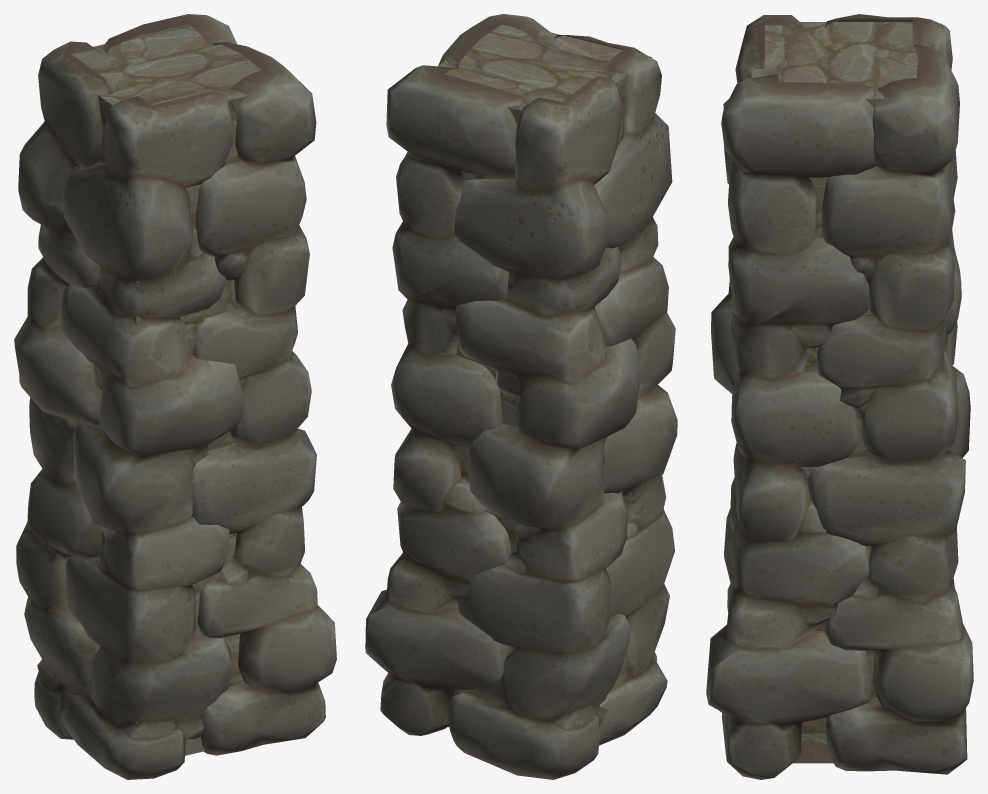
The model's file is MSH_fwOF_Ruins_Pillar.fbx.
3 renders of one model, left to right at view 1: azimuth 30°, elevation 25°; view 2: azimuth 150°, elevation 25°; view 3: azimuth 270°, elevation 25°, orthographic. The views are drawn at different scales.
Parts seen in each view (by area): view 1: MSH_fwOF_Ruins_Pillar_Corners_LOD0, MSH_fwOF_Ruins_Pillar_Base; view 2: MSH_fwOF_Ruins_Pillar_Corners_LOD0, MSH_fwOF_Ruins_Pillar_Base; view 3: MSH_fwOF_Ruins_Pillar_Corners_LOD0, MSH_fwOF_Ruins_Pillar_Base.
Boxes of the visible parts, x1=… form: MSH_fwOF_Ruins_Pillar_Corners_LOD0: x1=14, y1=14, x2=336, y2=779; MSH_fwOF_Ruins_Pillar_Base: x1=71, y1=24, x2=260, y2=755; MSH_fwOF_Ruins_Pillar_Corners_LOD0: x1=365, y1=14, x2=677, y2=779; MSH_fwOF_Ruins_Pillar_Base: x1=438, y1=24, x2=651, y2=727; MSH_fwOF_Ruins_Pillar_Corners_LOD0: x1=706, y1=14, x2=973, y2=779; MSH_fwOF_Ruins_Pillar_Base: x1=751, y1=22, x2=934, y2=763.
Size of what is drawn, in the model's own units: 1.5 by 4.27 by 1.46.
